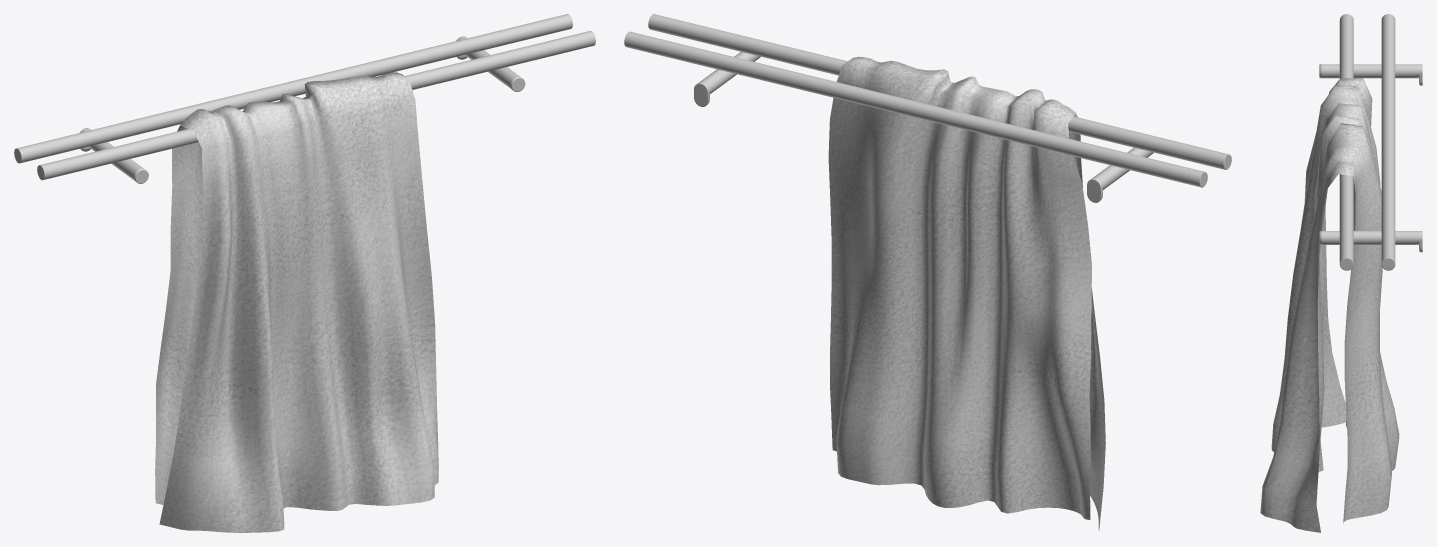
The model's file is centered.fbx.
3 renders of one model, left to right at view 1: azimuth 30°, elevation 25°; view 2: azimuth 150°, elevation 25°; view 3: azimuth 270°, elevation 25°, orthographic. The views are drawn at different scales.
Visible parts, largest first — view 1: A_toalla_blanc_Mesh, A_estanteria_metal_Cylinder.003; view 2: A_toalla_blanc_Mesh, A_estanteria_metal_Cylinder.003; view 3: A_toalla_blanc_Mesh, A_estanteria_metal_Cylinder.003.
Boxes of the visible parts, x1=… form: A_toalla_blanc_Mesh: x1=155, y1=72, x2=438, y2=532; A_estanteria_metal_Cylinder.003: x1=14, y1=14, x2=595, y2=183; A_toalla_blanc_Mesh: x1=828, y1=56, x2=1105, y2=530; A_estanteria_metal_Cylinder.003: x1=624, y1=14, x2=1231, y2=202; A_toalla_blanc_Mesh: x1=1260, y1=78, x2=1399, y2=532; A_estanteria_metal_Cylinder.003: x1=1319, y1=14, x2=1422, y2=270.
Size of the model in its own units: 298 by 208 by 83.77.
